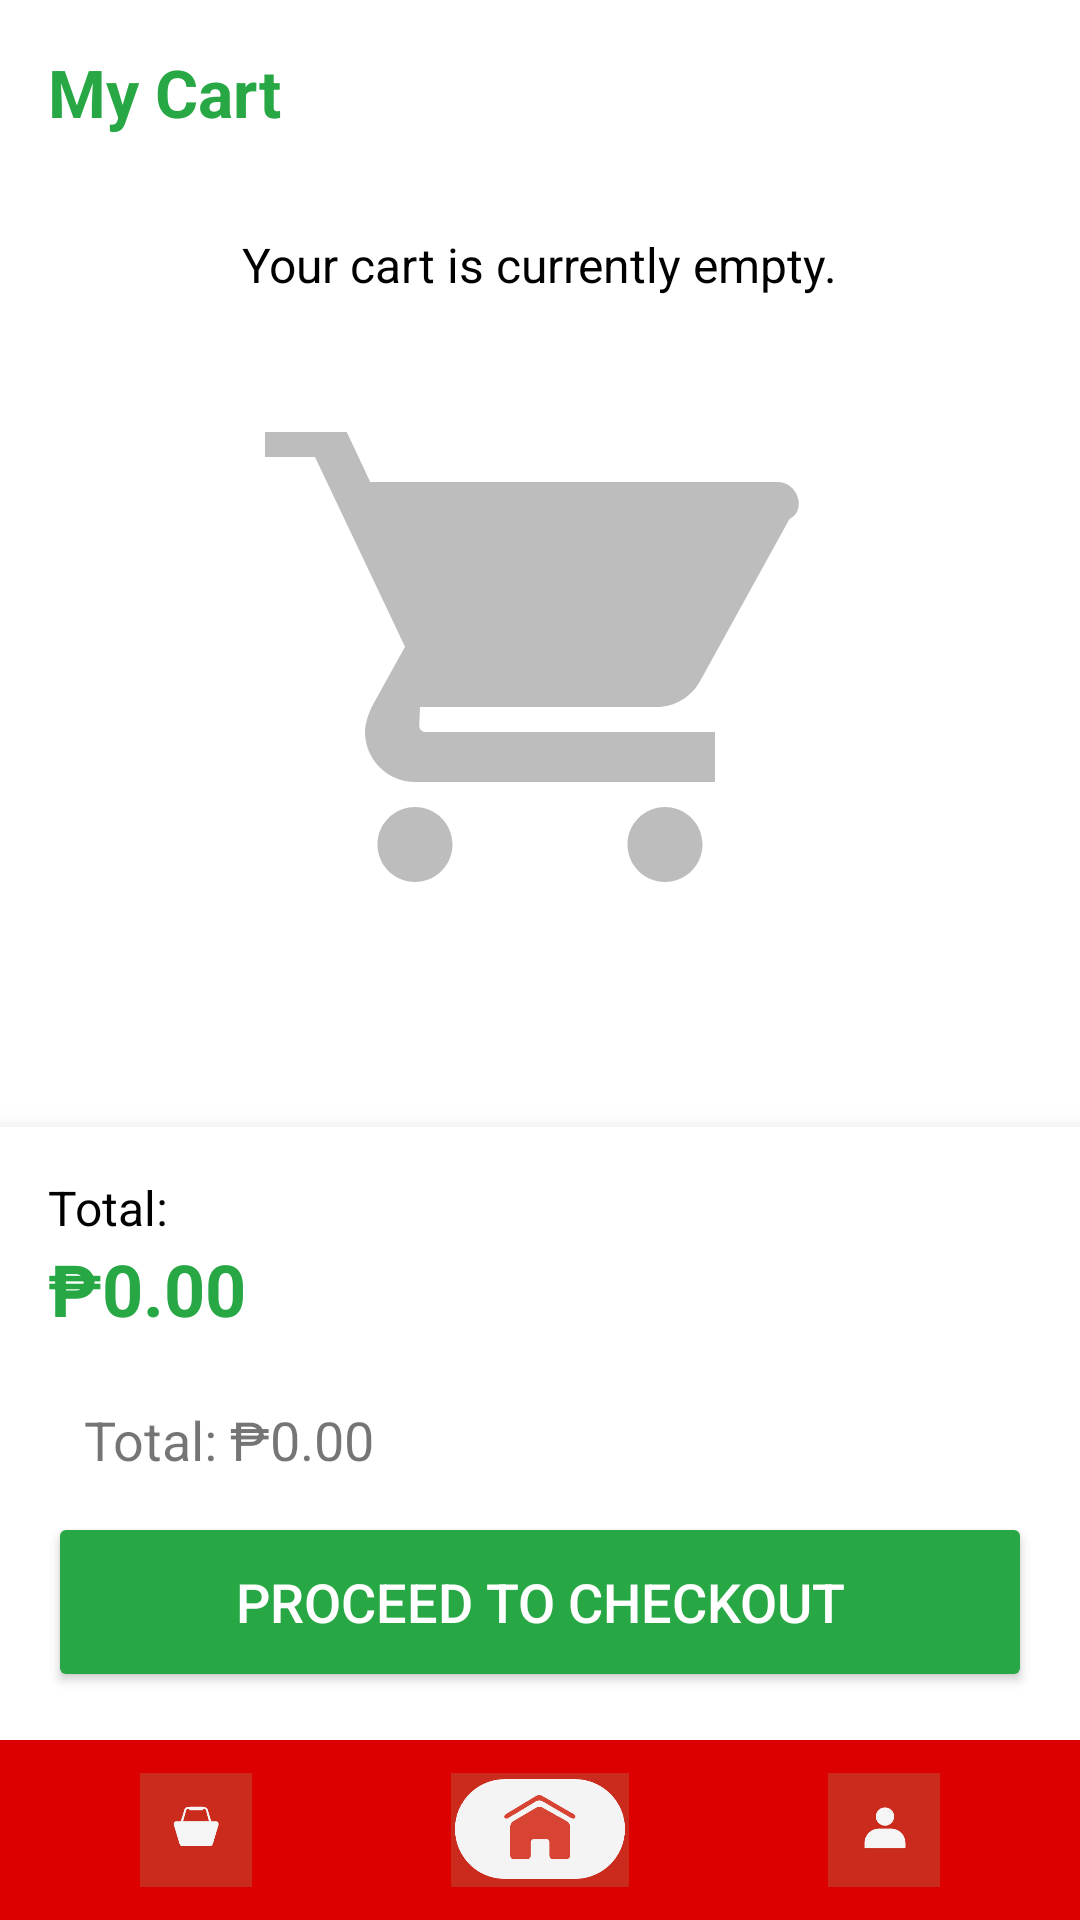

Icon bounding boxes for this 1080 × 1920 phone screenshot, format rect(x1, y1, x2, y2):
Home: rect(451, 1773, 629, 1887)
